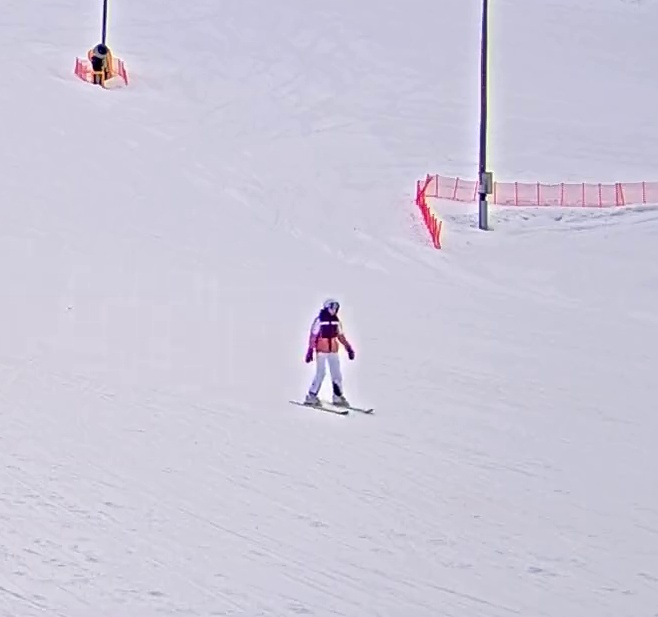skier: (286, 297, 375, 417)
